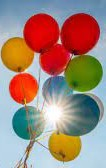Balloon: (61, 13, 100, 54), (23, 13, 59, 52), (66, 55, 103, 91)
